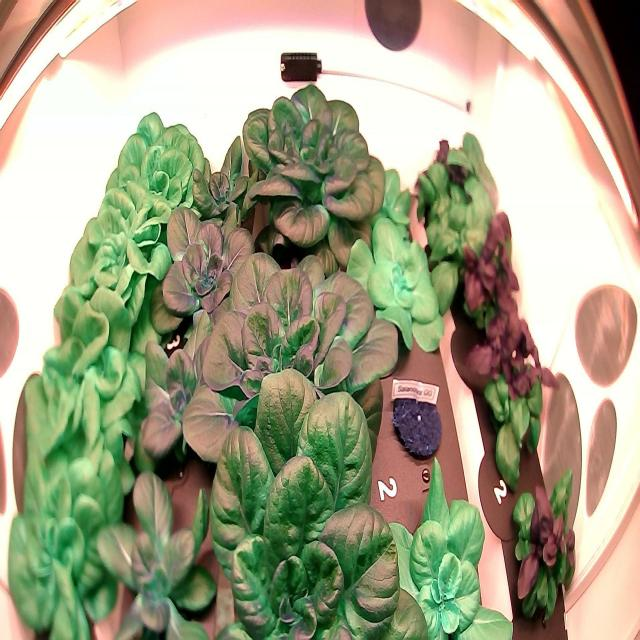Ready: (185, 356, 438, 640), (176, 217, 418, 498), (224, 70, 399, 273), (19, 286, 150, 509), (2, 428, 124, 640), (62, 162, 178, 335), (104, 95, 212, 235)
pod: (385, 372, 453, 466)
young: (121, 275, 271, 489), (83, 431, 235, 640), (372, 441, 524, 640), (139, 178, 268, 356), (345, 206, 448, 357), (183, 120, 260, 239), (351, 146, 417, 245)
